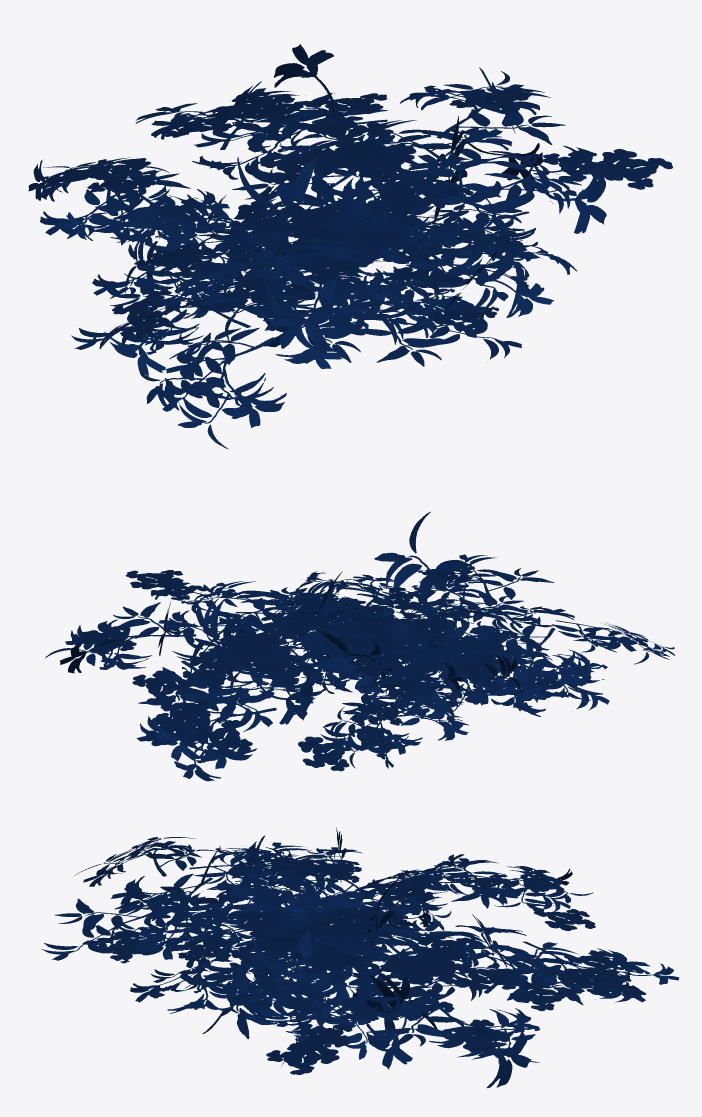
3 views of the same model, one above another, from view 1: azimuth 30°, elevation 25°; view 2: azimuth 150°, elevation 25°; view 3: azimuth 270°, elevation 25° (orthographic). The views are drawn at different scales.
Parts seen in each view (by area): view 1: SM_FH_Leaf_Piles_03_LOD0; view 2: SM_FH_Leaf_Piles_03_LOD0; view 3: SM_FH_Leaf_Piles_03_LOD0.
Boxes of the visible parts, left/top/right/bottom form: SM_FH_Leaf_Piles_03_LOD0: left=28, top=44, right=672, bottom=448; SM_FH_Leaf_Piles_03_LOD0: left=45, top=511, right=674, bottom=781; SM_FH_Leaf_Piles_03_LOD0: left=41, top=827, right=679, bottom=1088.
Bounding box in the file's own units: 1.05 × 0.2929 × 1.1.
1 material, 1 textured.
